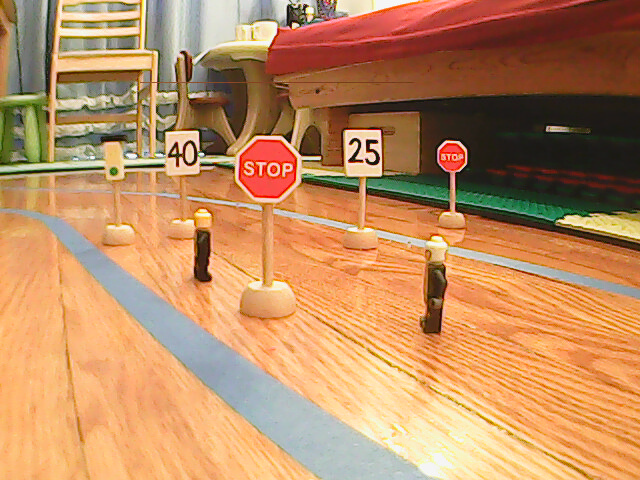Green Traffic Light: (99, 134, 129, 182)
Person: (422, 236, 450, 337), (190, 209, 217, 284)
Speed Limit 25: (342, 129, 383, 180)
Speed Limit 40: (165, 128, 202, 179)
Stop Sign: (233, 131, 303, 205), (435, 139, 469, 175)
